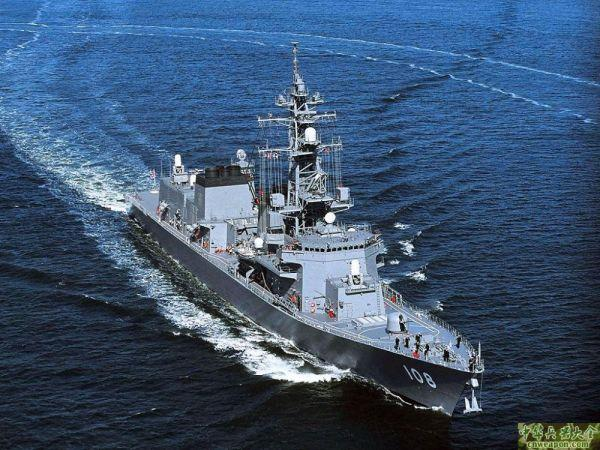warship: (127, 74, 499, 411)
